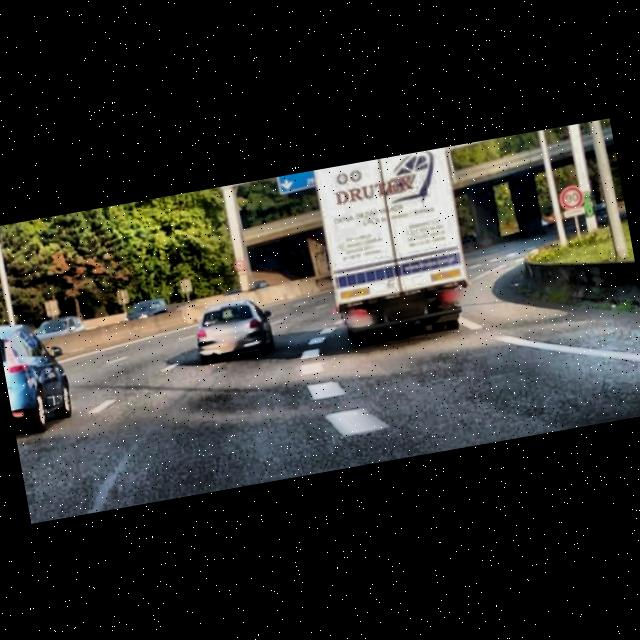speed_90: (560, 184, 582, 208)
